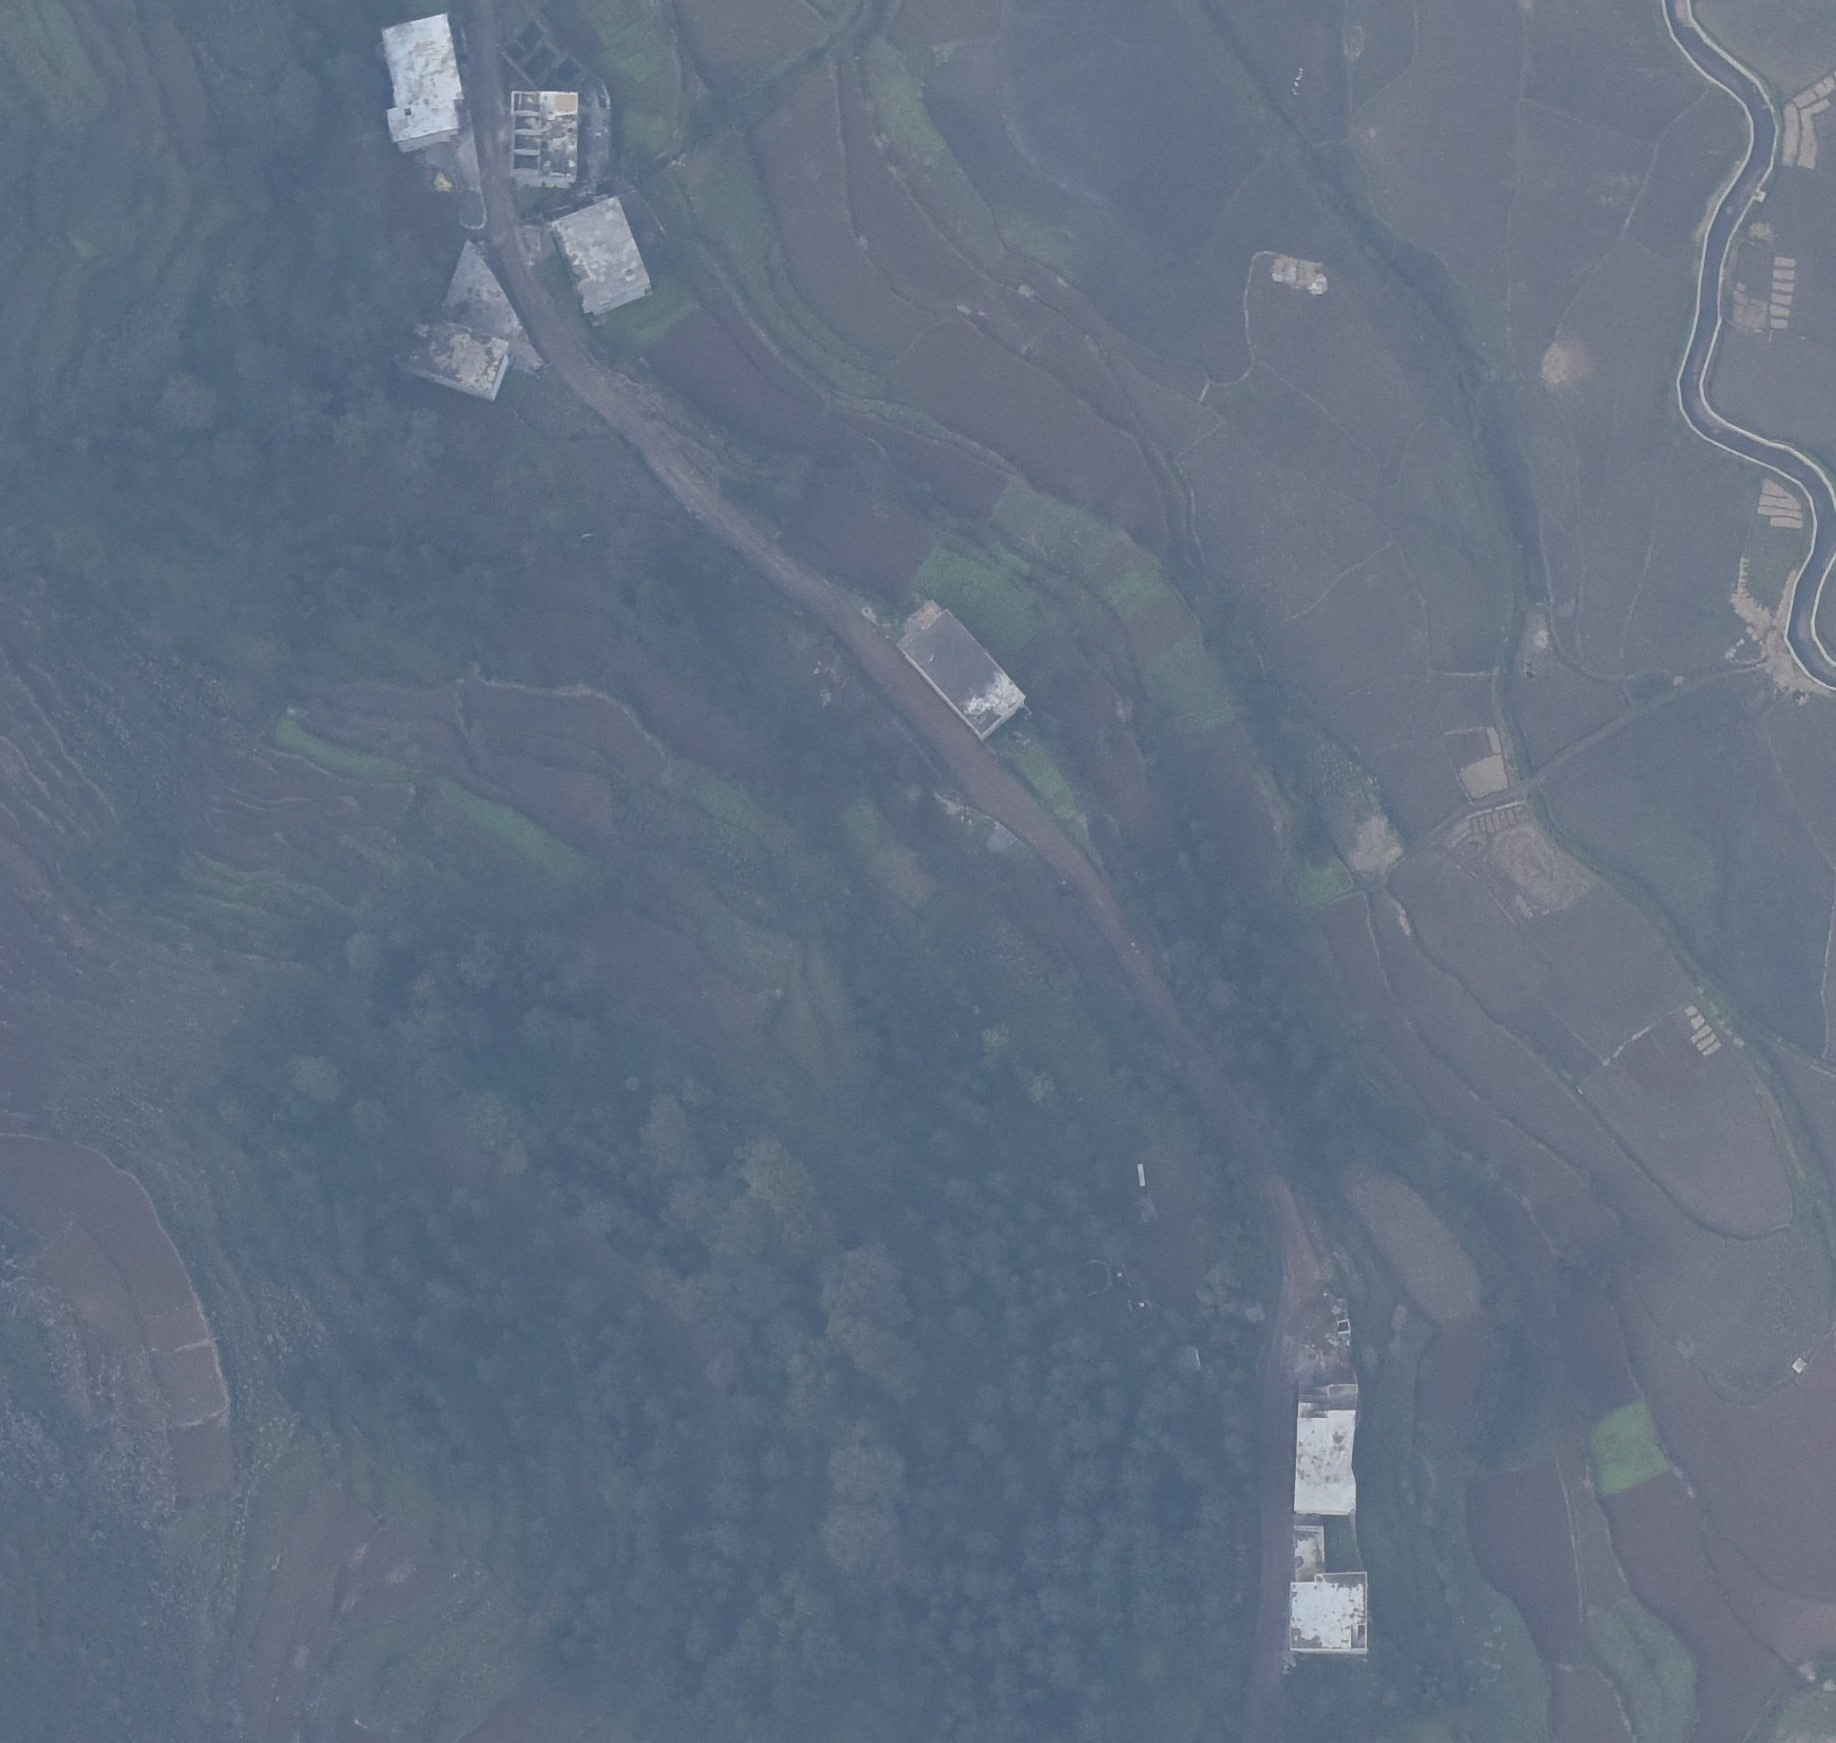building: (889, 591, 1033, 744), (1281, 1517, 1384, 1676), (547, 190, 670, 323), (387, 300, 524, 405), (1286, 1378, 1371, 1527), (500, 75, 599, 192), (373, 7, 472, 106), (382, 93, 468, 156)
